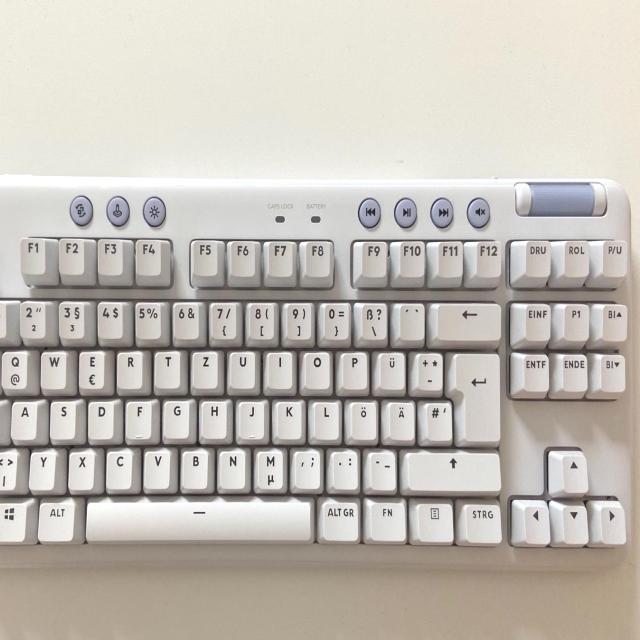0: (318, 299, 351, 342)
1: (1, 298, 9, 338)
2: (18, 298, 46, 340)
3: (57, 298, 87, 340)
4: (95, 298, 125, 339)
5: (133, 298, 164, 340)
6: (170, 298, 202, 340)
7: (208, 299, 238, 341)
8: (244, 299, 276, 341)
9: (281, 299, 313, 341)
a: (9, 398, 37, 439)
accent: (394, 299, 424, 340)
ae: (383, 397, 414, 439)
alt-left: (36, 497, 74, 540)
altgr-right: (317, 496, 359, 540)
b: (179, 445, 208, 487)
c: (104, 446, 132, 488)
caret: (0, 298, 8, 336)
comma: (289, 445, 321, 488)
d: (86, 397, 114, 438)
del: (431, 299, 501, 339)
e: (77, 348, 105, 390)
enter: (447, 350, 501, 442)
f: (124, 397, 152, 438)
g: (162, 397, 190, 437)
h: (198, 396, 228, 437)
hash: (418, 397, 452, 441)
i: (263, 348, 293, 388)
j: (235, 397, 265, 439)
k: (271, 397, 303, 439)
keyboard: (0, 172, 636, 573)
l: (308, 397, 340, 439)
less: (0, 448, 17, 490)
m: (252, 445, 284, 489)
minus: (363, 446, 396, 489)
n: (216, 445, 246, 487)
o: (300, 348, 332, 389)
oe: (345, 397, 377, 439)
p: (336, 348, 368, 389)
plus: (410, 349, 443, 391)
point: (327, 446, 359, 488)
q: (0, 347, 28, 389)
r: (115, 348, 143, 389)
s: (48, 397, 76, 438)
shift-left: (0, 449, 14, 489)
shift-lock: (0, 398, 23, 438)
shift-right: (399, 448, 501, 491)
space: (81, 495, 313, 541)
ss: (354, 299, 388, 342)
strg-left: (0, 499, 14, 541)
strg-right: (458, 500, 502, 542)
t: (152, 347, 180, 387)
tab: (0, 348, 18, 388)
u: (227, 347, 257, 388)
ue: (373, 348, 405, 389)
v: (142, 446, 171, 488)
w: (39, 347, 67, 389)
x: (67, 447, 95, 489)
y: (27, 447, 55, 489)
z: (190, 348, 219, 388)
